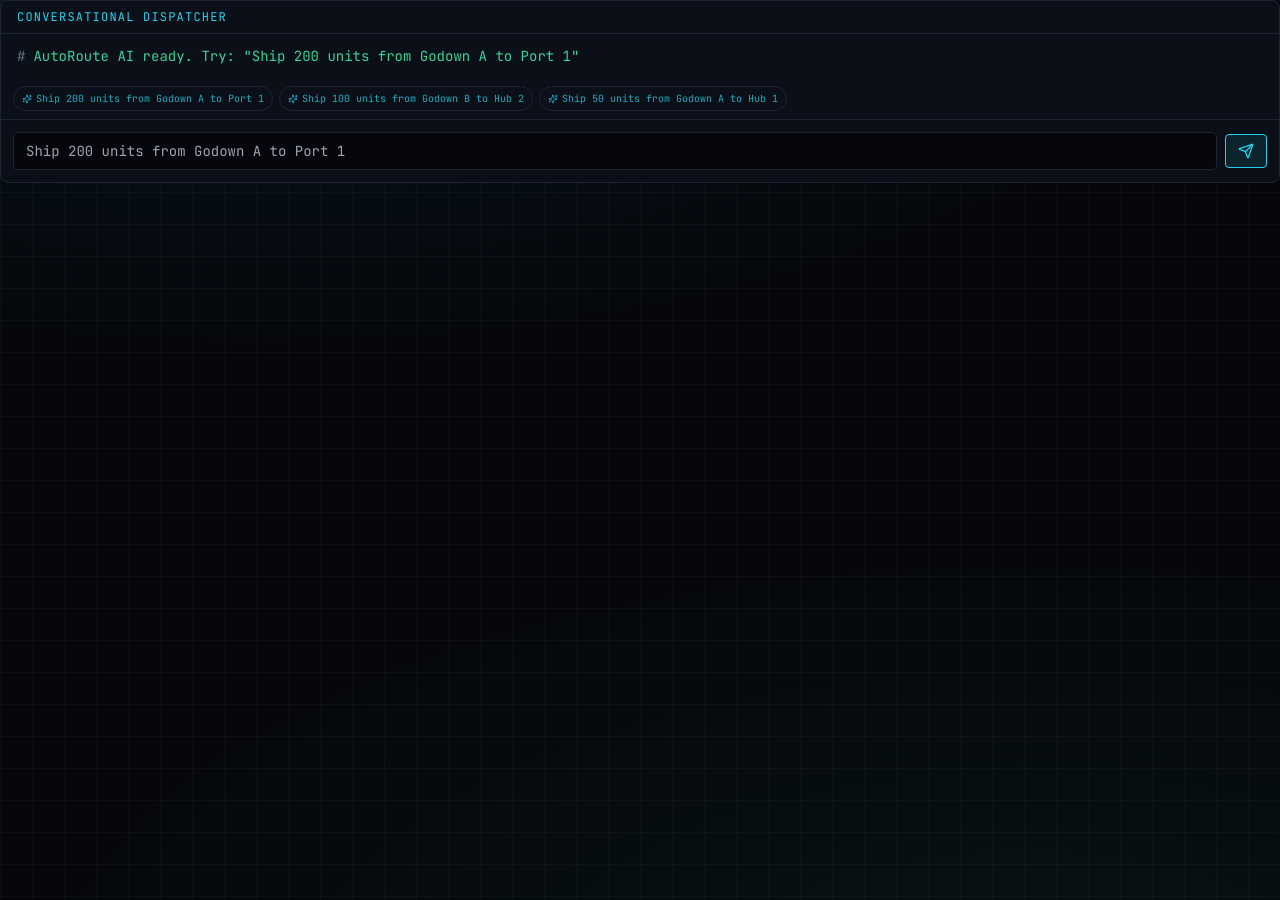
Scenario: ChatDispatcher › sends a message and renders the agent confirmation
Type "Ship 100 units from Godown A to Port 1" into the field named "Dispatch order" at (615, 151), box [13, 132, 1217, 170]
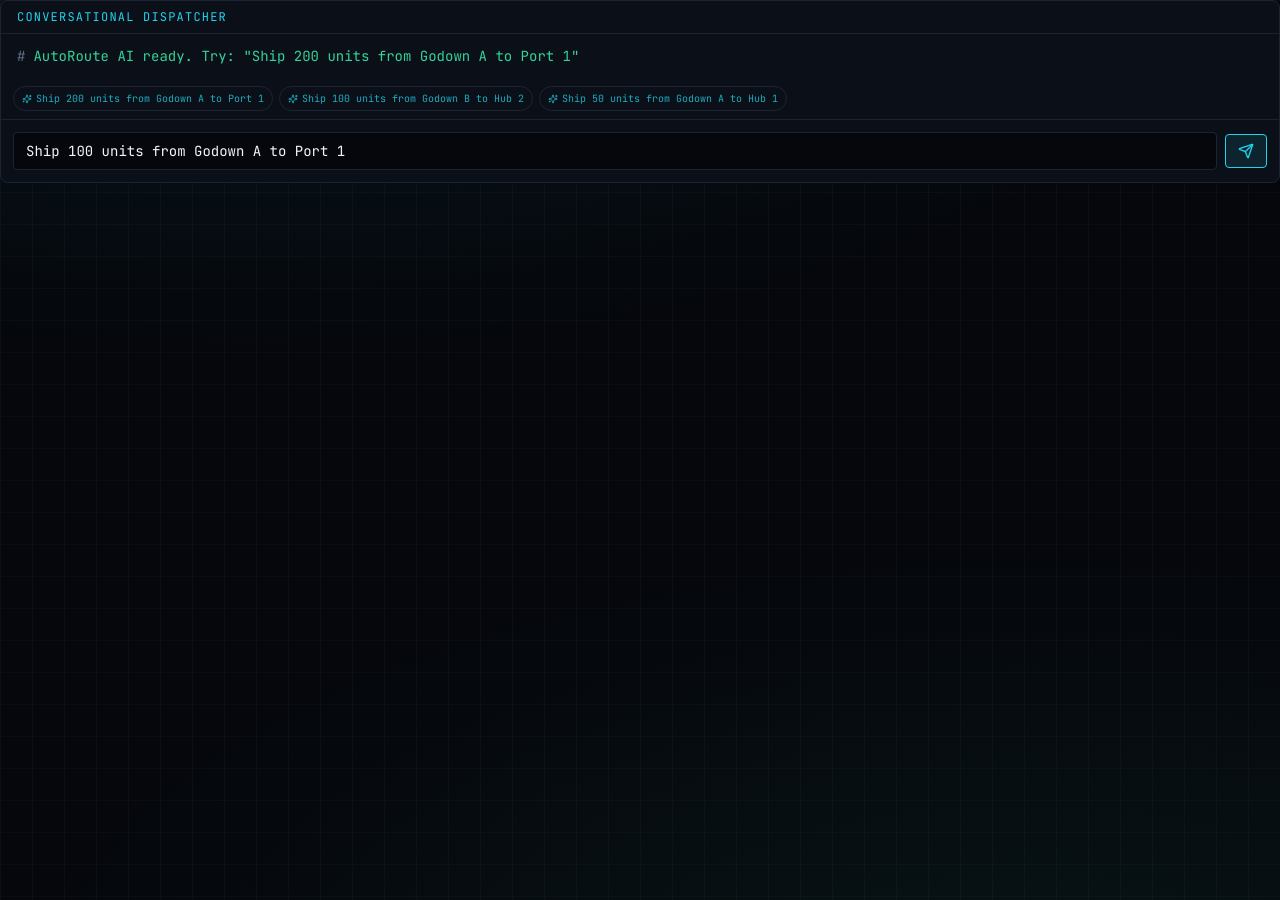
Click the button named "Send" at (1246, 151), box [1225, 134, 1267, 168]
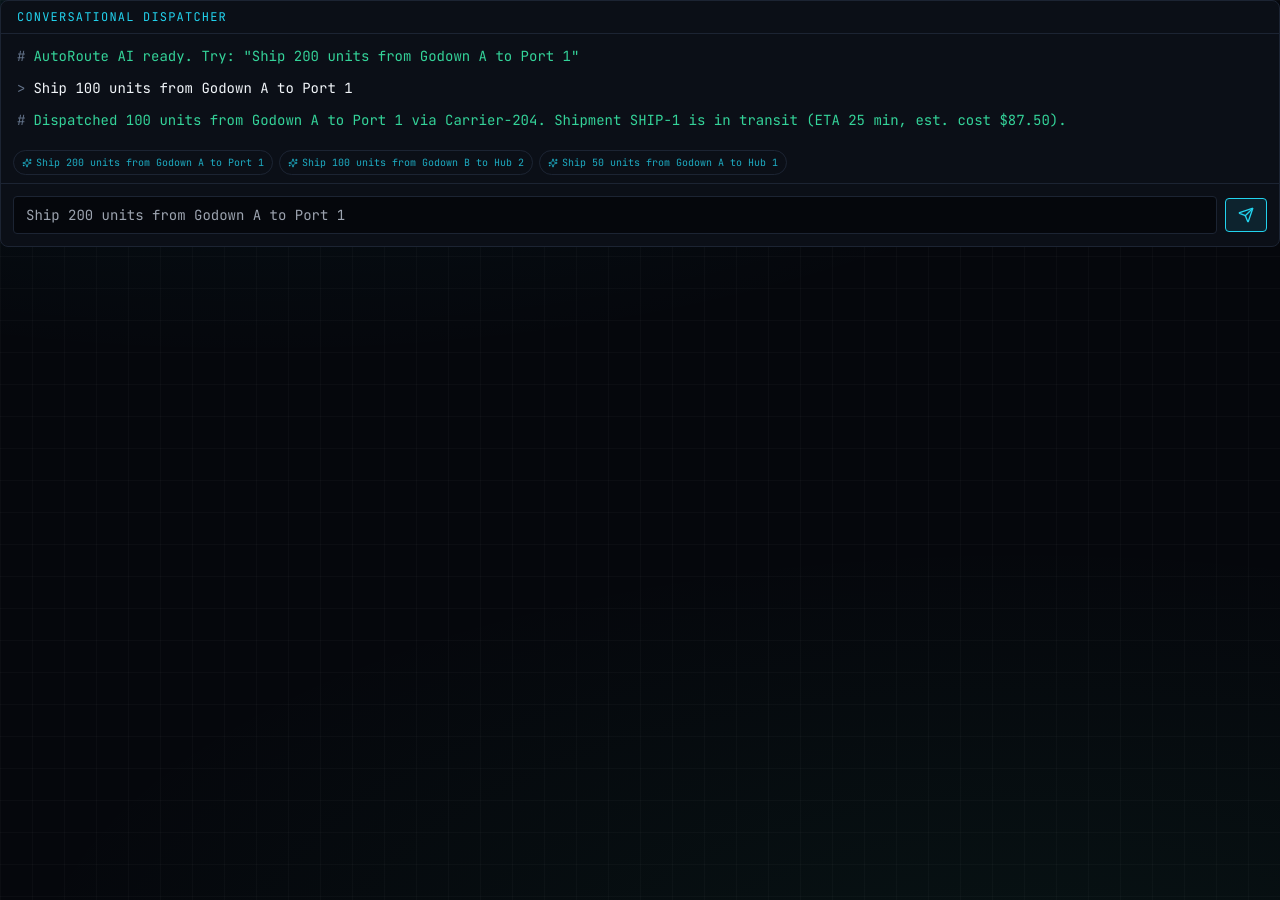
Expected: the text "Dispatched 100 units" is shown, [33, 111, 1067, 129]
